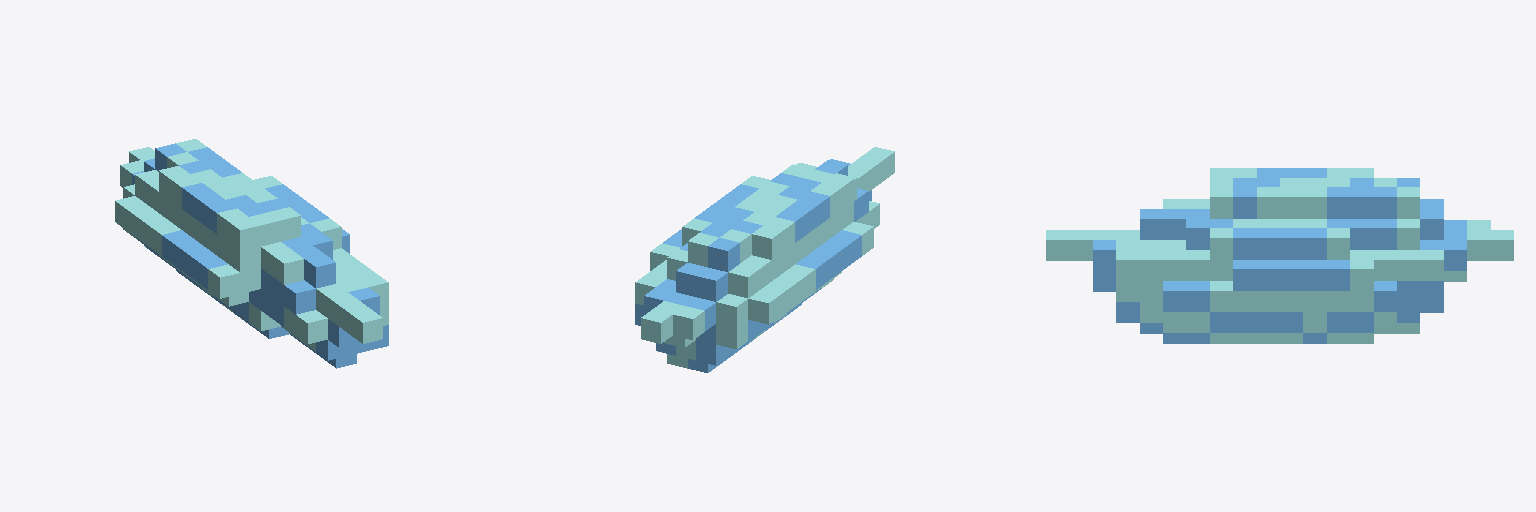
3 renders of one model, left to right at view 1: azimuth 30°, elevation 25°; view 2: azimuth 150°, elevation 25°; view 3: azimuth 270°, elevation 25°, orthographic.
Parts seen in each view (by area): view 1: object 1; view 2: object 1; view 3: object 1.
Part boxes in pixels (bbox=[...]): object 1: bbox=[115, 139, 388, 368]; object 1: bbox=[635, 147, 894, 372]; object 1: bbox=[1046, 168, 1513, 343].
Size of the model in its own units: 0.7 by 0.6 by 2.
1 materials, 1 textured.